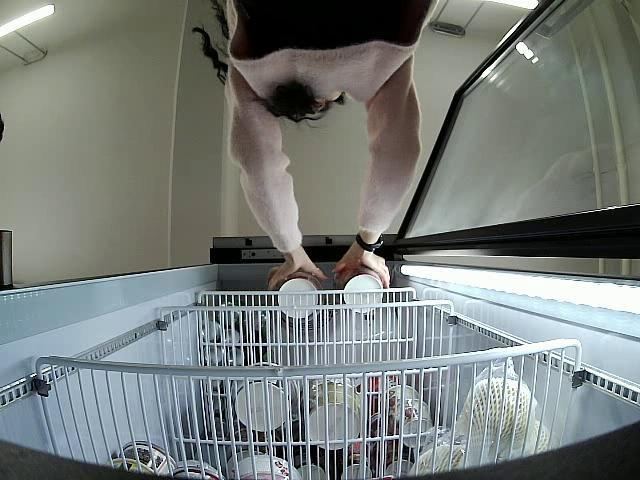01_ShinRamen_L: (334, 267, 384, 312), (277, 269, 320, 320)
